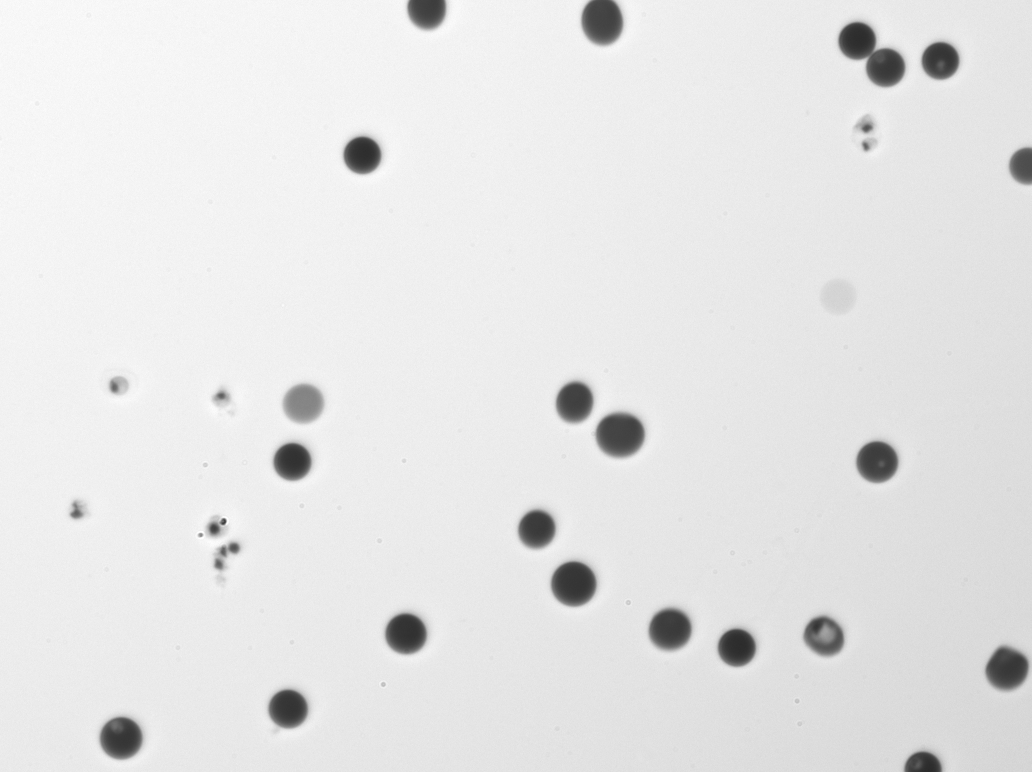healthy: (595, 411, 645, 457), (550, 559, 597, 606), (985, 644, 1029, 689), (648, 606, 692, 651), (581, 0, 623, 46), (385, 611, 427, 656), (268, 687, 308, 730), (717, 627, 756, 669), (556, 380, 594, 423), (866, 49, 906, 89), (517, 508, 556, 548), (838, 23, 877, 62), (343, 136, 382, 175), (273, 441, 311, 480), (406, 0, 446, 30), (1008, 147, 1032, 186)
misc: (197, 511, 241, 596), (281, 382, 324, 424), (97, 368, 140, 404), (818, 277, 857, 316), (853, 111, 883, 155), (211, 389, 238, 419), (65, 496, 89, 522)
ring: (99, 715, 143, 758), (856, 440, 899, 482), (921, 42, 959, 82), (905, 749, 941, 772)
trophozoite: (803, 614, 844, 656)
